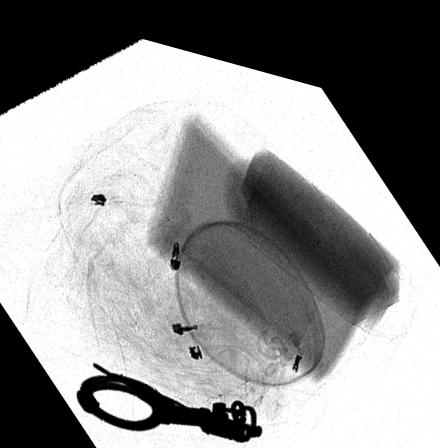HandCuffs: (76, 357, 262, 429)
